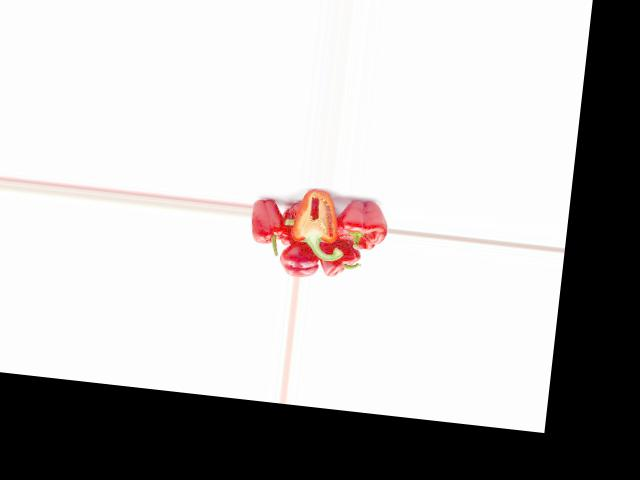bell_pepper: (316, 241, 363, 280)
